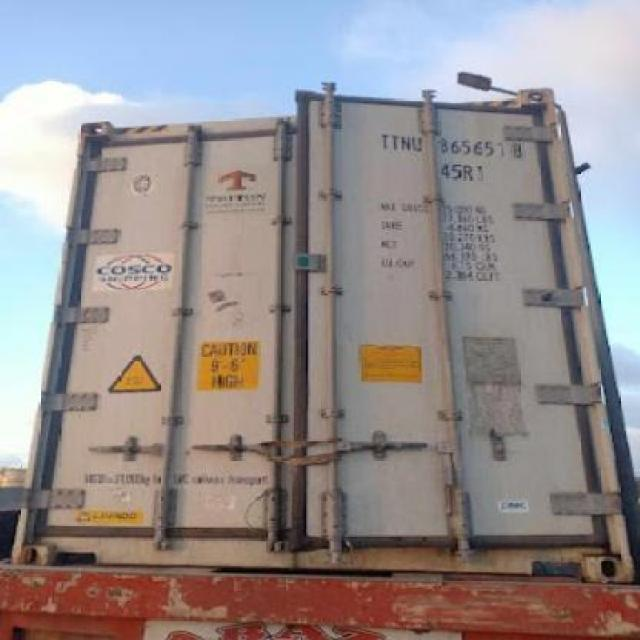ISO: (438, 161, 483, 181)
container_number: (381, 137, 525, 161)
